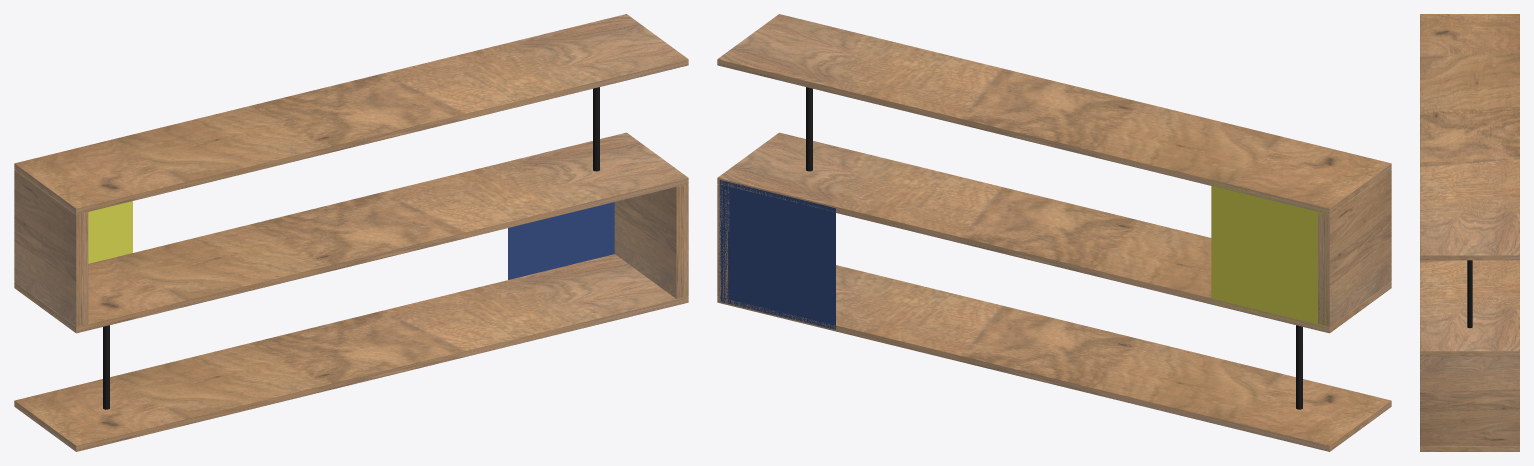
Rendered from shelfb.gltf.
The picture shows the model from 3 angles, left to right: view 1: azimuth 30°, elevation 25°; view 2: azimuth 150°, elevation 25°; view 3: azimuth 270°, elevation 25°; orthographic projection. The views are drawn at different scales.
Visible parts, largest first — view 1: Shelfs, Shelfs_3, Shelfs_2, sideParts, sideParts_2, Plane, Plane_2; view 2: Shelfs, Shelfs_3, Shelfs_2, Plane, Plane_2, sideParts, sideParts_2; view 3: Shelfs, Shelfs_2, sideParts_2, Shelfs_3, Supporters_2.
Boxes of the visible parts, bbox=[...] form: Shelfs: bbox=[14, 14, 688, 214]; Shelfs_3: bbox=[14, 254, 688, 451]; Shelfs_2: bbox=[14, 132, 688, 333]; sideParts: bbox=[14, 170, 88, 326]; sideParts_2: bbox=[614, 184, 688, 298]; Plane: bbox=[508, 202, 614, 279]; Plane_2: bbox=[88, 201, 132, 263]; Shelfs: bbox=[717, 14, 1391, 214]; Shelfs_3: bbox=[717, 265, 1391, 451]; Shelfs_2: bbox=[717, 132, 1391, 333]; Plane: bbox=[719, 180, 835, 329]; Plane_2: bbox=[1211, 181, 1327, 330]; sideParts: bbox=[1318, 170, 1391, 326]; sideParts_2: bbox=[717, 184, 729, 298]; Shelfs: bbox=[1420, 14, 1519, 260]; Shelfs_2: bbox=[1420, 260, 1519, 356]; sideParts_2: bbox=[1420, 356, 1519, 446]; Shelfs_3: bbox=[1420, 446, 1519, 451]; Supporters_2: bbox=[1467, 260, 1472, 327].
Size of the model in its own units: 162 by 61.71 by 28.42.
Materials: 4 (3 with a texture image).
